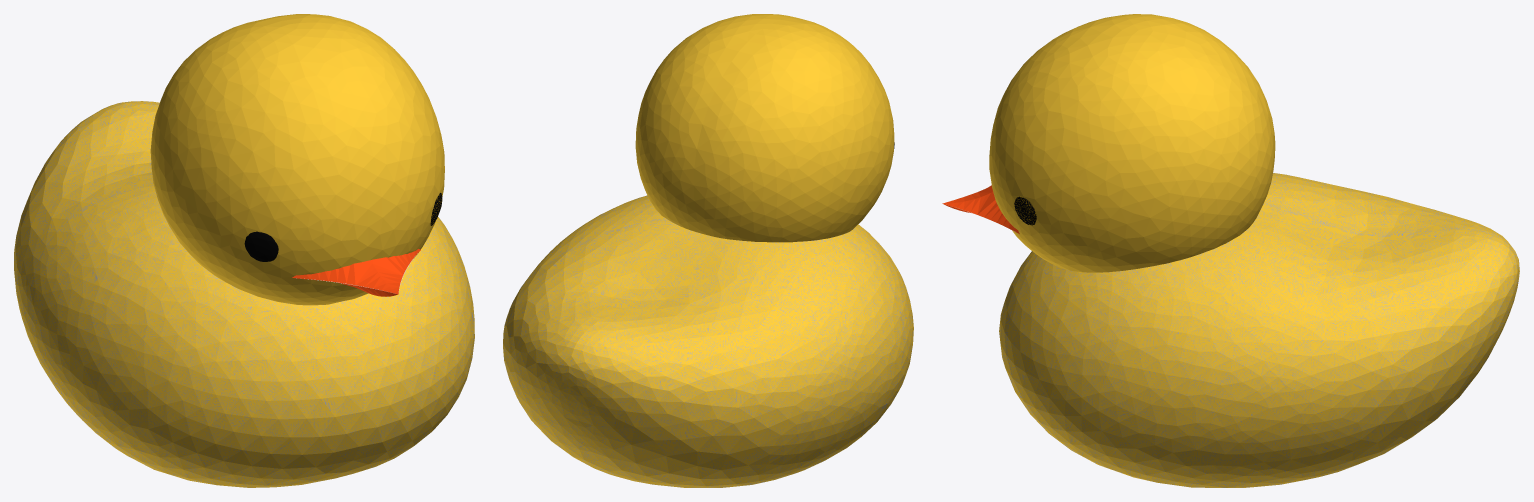
The picture shows the model from 3 angles, left to right: view 1: azimuth 30°, elevation 25°; view 2: azimuth 150°, elevation 25°; view 3: azimuth 270°, elevation 25°; orthographic projection. The views are drawn at different scales.
Parts seen in each view (by area): view 1: Component (×3), Component1; view 2: Component (×2); view 3: Component (×3).
Part boxes in pixels (x1=…): Component (×3): x1=14, y1=14, x2=474, y2=487; Component1: x1=244, y1=231, x2=278, y2=261; Component (×2): x1=503, y1=14, x2=913, y2=487; Component (×3): x1=942, y1=14, x2=1519, y2=487.
Size of the model in its own units: 32.53 by 45.93 by 36.56.
